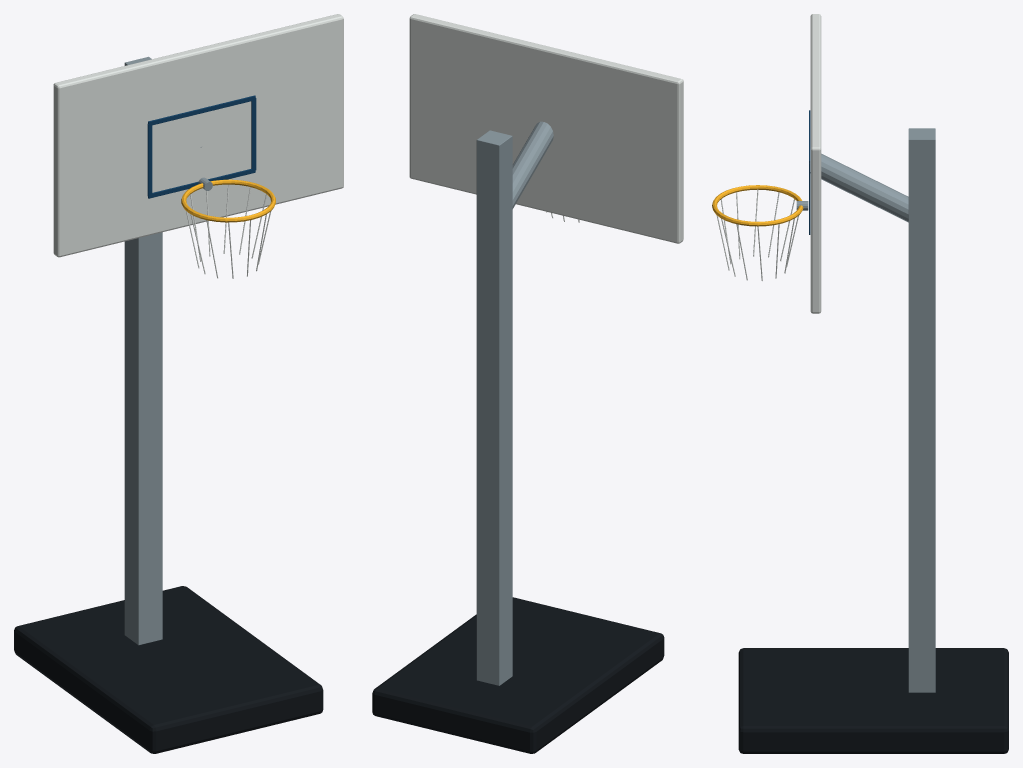
Rendered from edited.glb.
3 renders of one model, left to right at view 1: azimuth 30°, elevation 25°; view 2: azimuth 150°, elevation 25°; view 3: azimuth 270°, elevation 25°, orthographic. The views are drawn at different scales.
Parts seen in each view (by area): view 1: BACKBOARD, BASE, POST, RIM, TARGET_Horizontal.001; view 2: BACKBOARD, BASE, POST, SUPPORT; view 3: BASE, POST, BACKBOARD, SUPPORT, RIM.
Boxes of the visible parts, x1=… form: BACKBOARD: x1=53, y1=14, x2=343, y2=257; BASE: x1=14, y1=586, x2=323, y2=753; POST: x1=124, y1=56, x2=162, y2=645; RIM: x1=181, y1=179, x2=275, y2=222; TARGET_Horizontal.001: x1=148, y1=95, x2=255, y2=125; BACKBOARD: x1=409, y1=14, x2=683, y2=243; BASE: x1=372, y1=597, x2=664, y2=753; POST: x1=476, y1=130, x2=512, y2=685; SUPPORT: x1=512, y1=121, x2=553, y2=208; BASE: x1=738, y1=648, x2=1008, y2=753; POST: x1=908, y1=128, x2=935, y2=692; BACKBOARD: x1=810, y1=14, x2=821, y2=313; SUPPORT: x1=810, y1=153, x2=908, y2=222; RIM: x1=712, y1=185, x2=803, y2=226.
Bounding box in the file's own units: 1.66 × 3.63 × 1.54.
